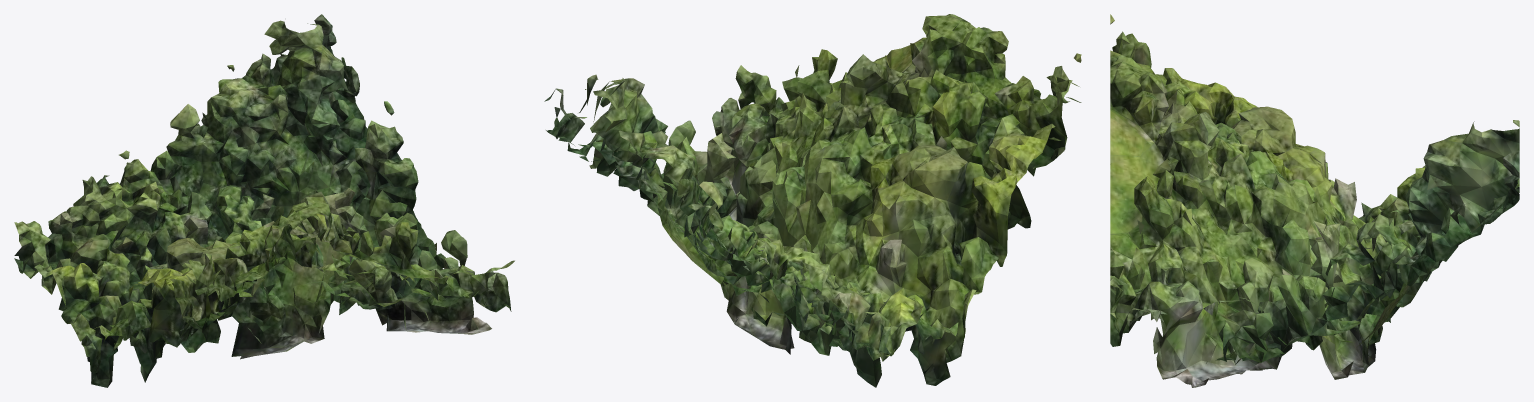
3 renders of one model, left to right at view 1: azimuth 30°, elevation 25°; view 2: azimuth 150°, elevation 25°; view 3: azimuth 270°, elevation 25°, orthographic. The views are drawn at different scales.
Bounding box in the file's own units: 104 × 85.48 × 104.
7 materials, 7 textured.
